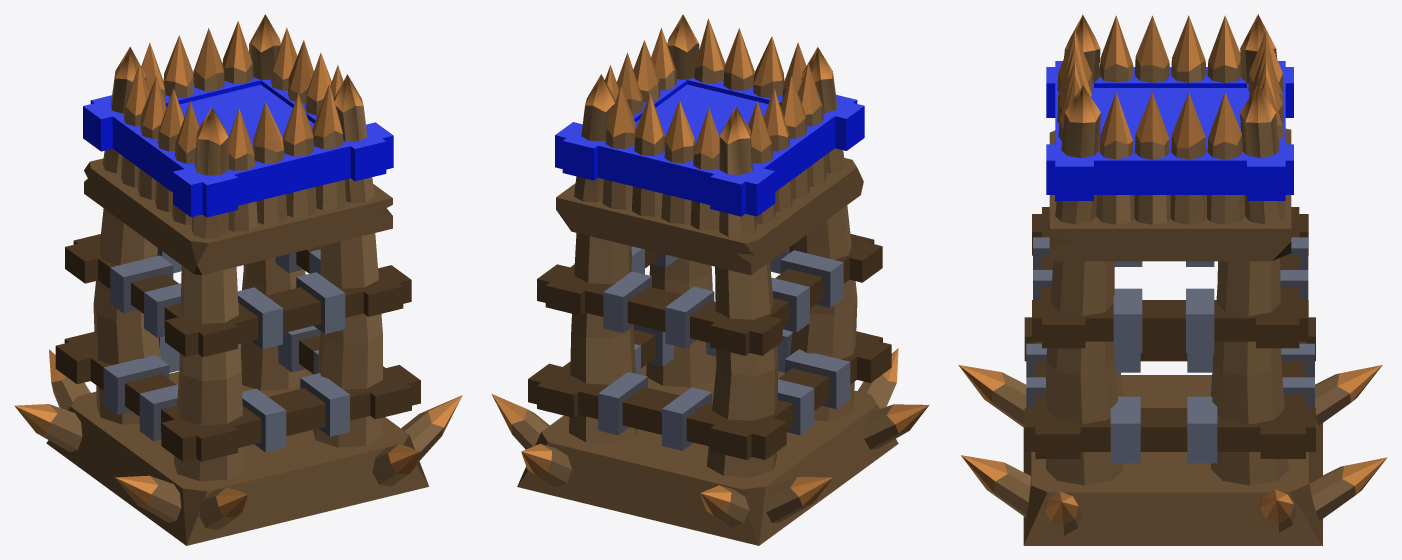
Rendered from Tower4 1.fbx.
The picture shows the model from 3 angles, left to right: view 1: azimuth 30°, elevation 25°; view 2: azimuth 150°, elevation 25°; view 3: azimuth 270°, elevation 25°; orthographic projection. The views are drawn at different scales.
Parts seen in each view (by area): view 1: Tower4; view 2: Tower4; view 3: Tower4.
Boxes of the visible parts, left/top/right/bottom form: Tower4: left=14, top=14, right=462, bottom=545; Tower4: left=491, top=14, right=929, bottom=545; Tower4: left=958, top=14, right=1387, bottom=545.
Size of the model in its own units: 419 by 468 by 420.
